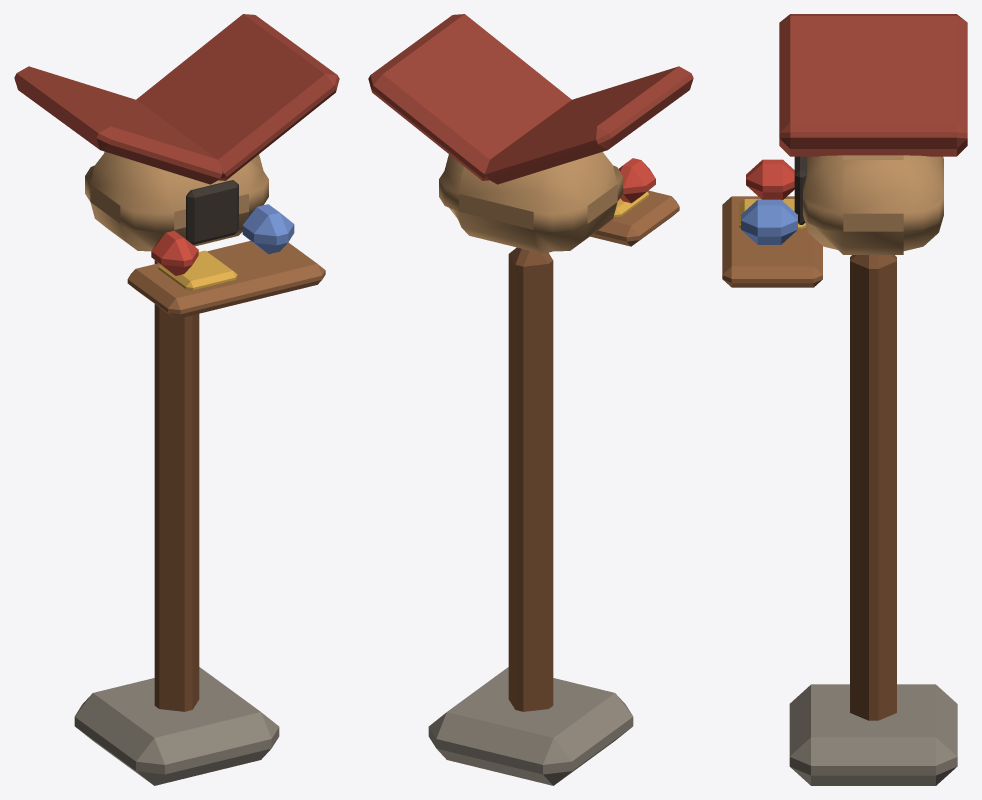
File: bird_feeder.glb
3 views of the same model, side by side, from view 1: azimuth 30°, elevation 25°; view 2: azimuth 150°, elevation 25°; view 3: azimuth 270°, elevation 25° (orthographic).
Parts seen in each view (by area): view 1: body; view 2: body; view 3: body.
Part boxes in pixels (x1,y1,x2,y2): body: (14,14,339,785); body: (368,14,693,785); body: (722,14,967,785).
Bounding box in the file's own units: 0.8489 × 2.27 × 0.73.
